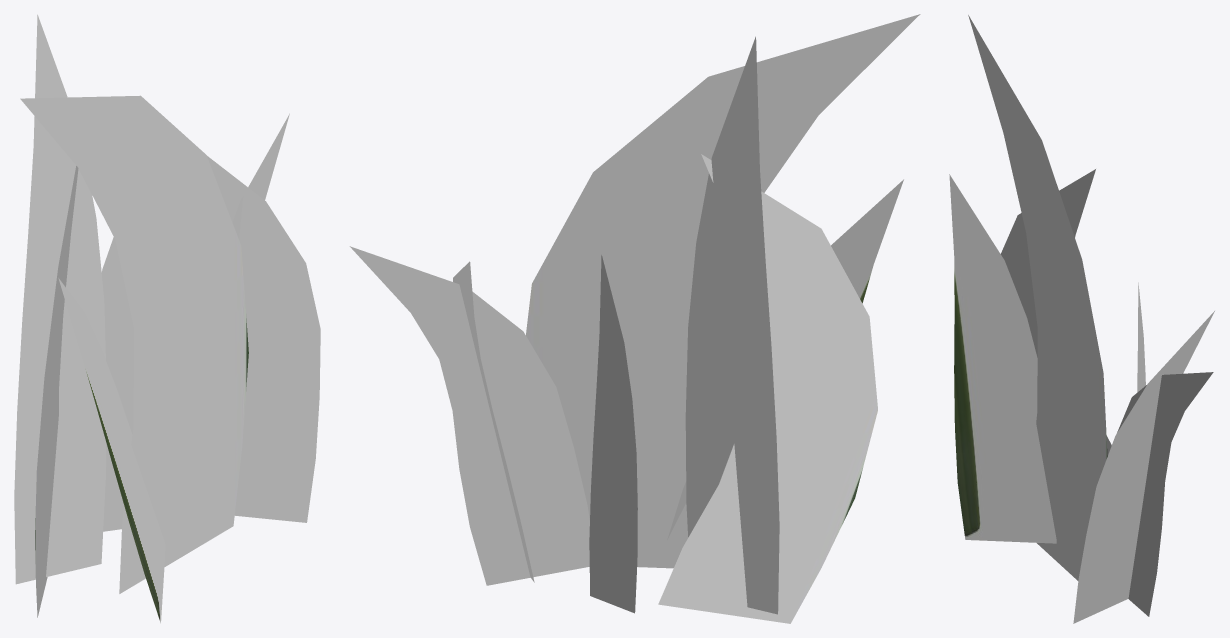
File: Grass3.fbx
3 renders of one model, left to right at view 1: azimuth 30°, elevation 25°; view 2: azimuth 150°, elevation 25°; view 3: azimuth 270°, elevation 25°, orthographic. The views are drawn at different scales.
Visible parts, largest first — view 1: Grass3; view 2: Grass3; view 3: Grass3.
Boxes of the visible parts, box(x1,y1,x2,y2) form: Grass3: box(14, 14, 320, 623); Grass3: box(349, 14, 920, 623); Grass3: box(949, 15, 1214, 623).
Bounding box in the file's own units: 49.79 × 67.17 × 32.81.
1 material, 1 textured.
